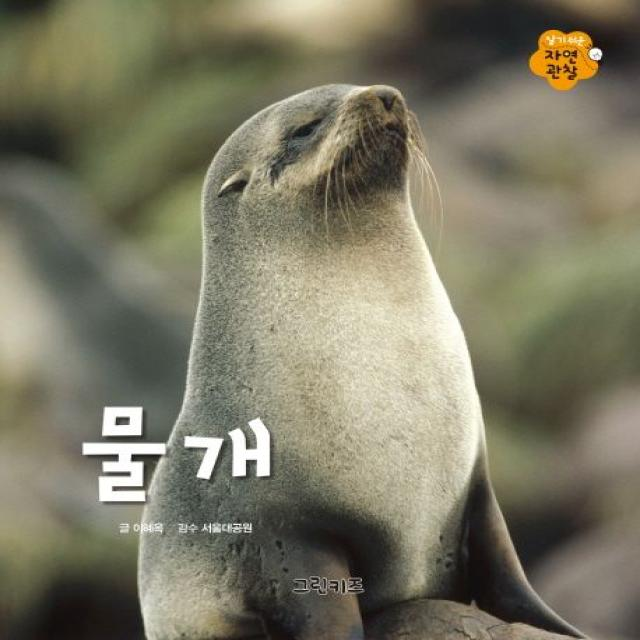WaterDog: (137, 77, 495, 619)
